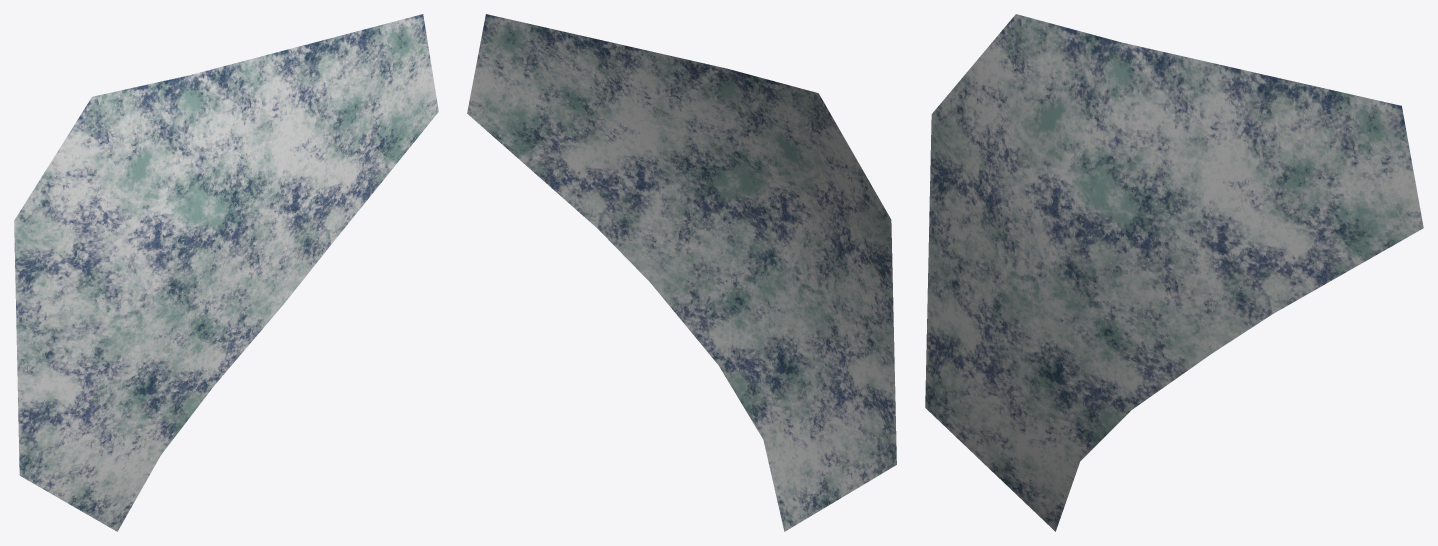
File: SpiderWeb6.fbx
3 renders of one model, left to right at view 1: azimuth 30°, elevation 25°; view 2: azimuth 150°, elevation 25°; view 3: azimuth 330°, elevation 25°, orthographic. The views are drawn at different scales.
Parts seen in each view (by area): view 1: SM_a_005_natagumo_spiderweb_06a; view 2: SM_a_005_natagumo_spiderweb_06a; view 3: SM_a_005_natagumo_spiderweb_06a.
Boxes of the visible parts, <box> form: SM_a_005_natagumo_spiderweb_06a: <box>14,14,438,531</box>; SM_a_005_natagumo_spiderweb_06a: <box>467,14,896,531</box>; SM_a_005_natagumo_spiderweb_06a: <box>925,14,1423,531</box>.
Bounding box in the file's own units: 1047 × 1047 × 96.5.
